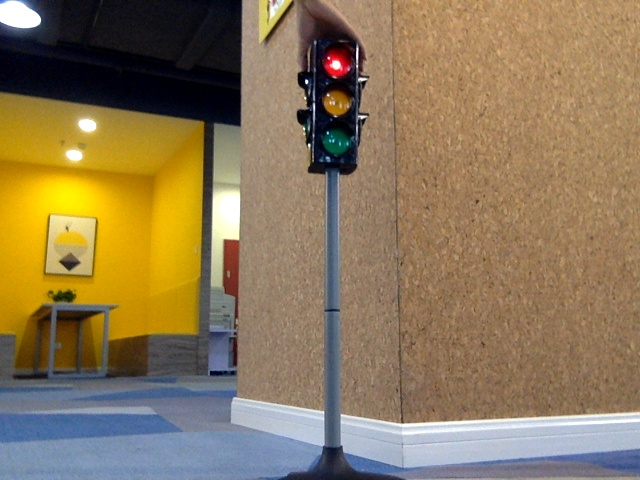red: (311, 41, 355, 160)
